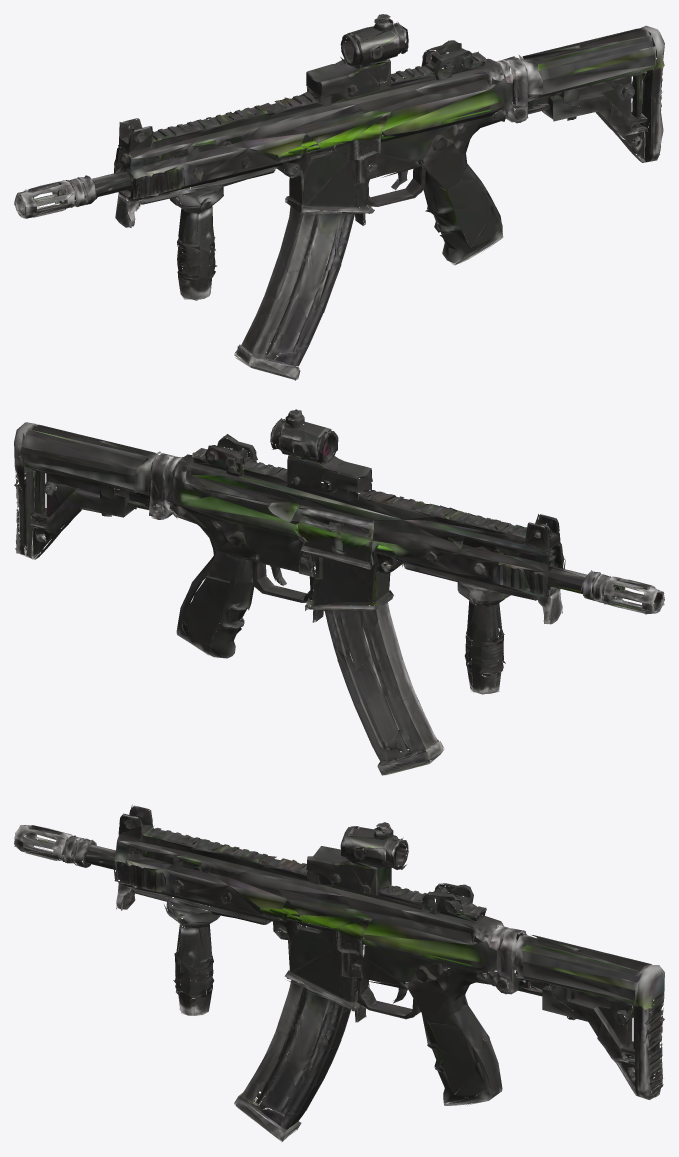
Rendered from gun_smg_lo.glb.
3 renders of one model, top to bottom at view 1: azimuth 30°, elevation 25°; view 2: azimuth 150°, elevation 25°; view 3: azimuth 330°, elevation 25°, orthographic.
Visible parts, largest first — view 1: Mesh_0; view 2: Mesh_0; view 3: Mesh_0.
Part boxes in pixels (left/top/right/bottom): Mesh_0: left=14, top=14, right=664, bottom=380; Mesh_0: left=14, top=409, right=664, bottom=775; Mesh_0: left=14, top=804, right=664, bottom=1141.
Bounding box in the file's own units: 1.9 × 0.9577 × 0.1692.
1 material, 1 textured.
